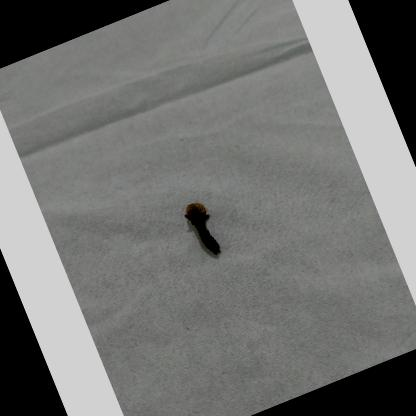sedang: (185, 203, 222, 257)
